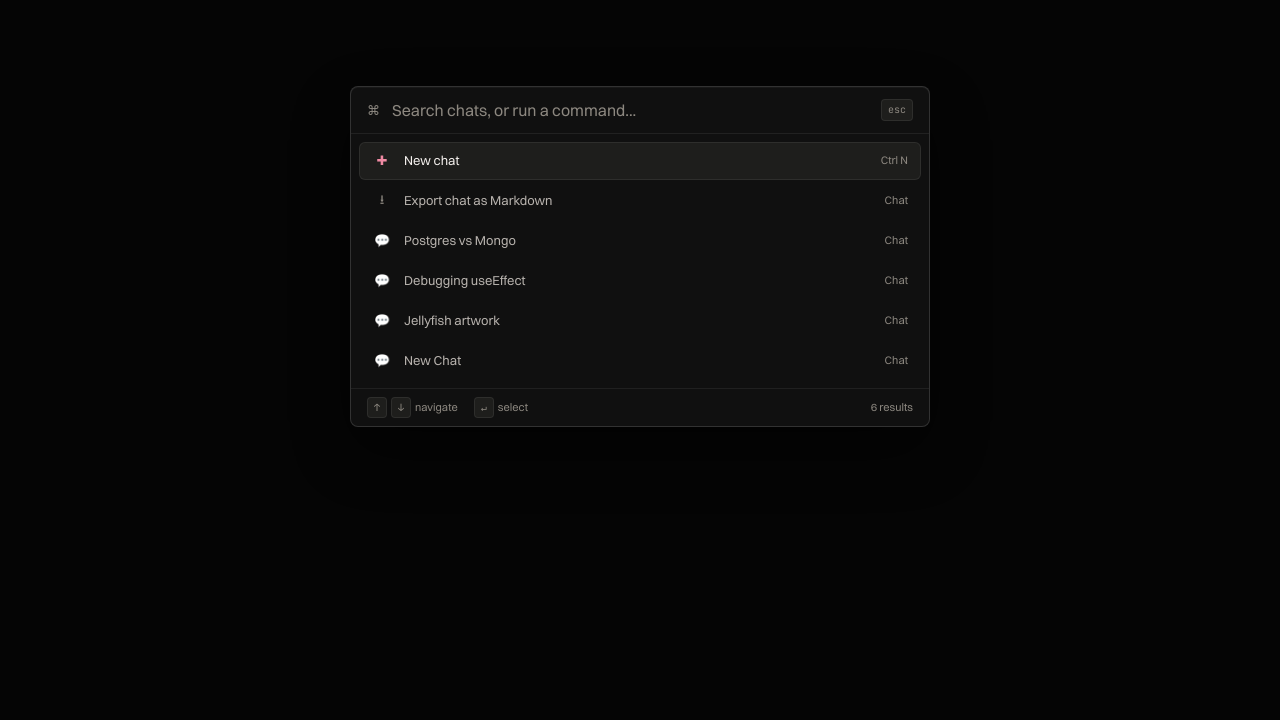
Scenario: CommandPalette › reports when nothing matches
The width and height of the screenshot is (1280, 720).
In the field: (630, 110) [392, 100, 869, 121], type "zzzzz"
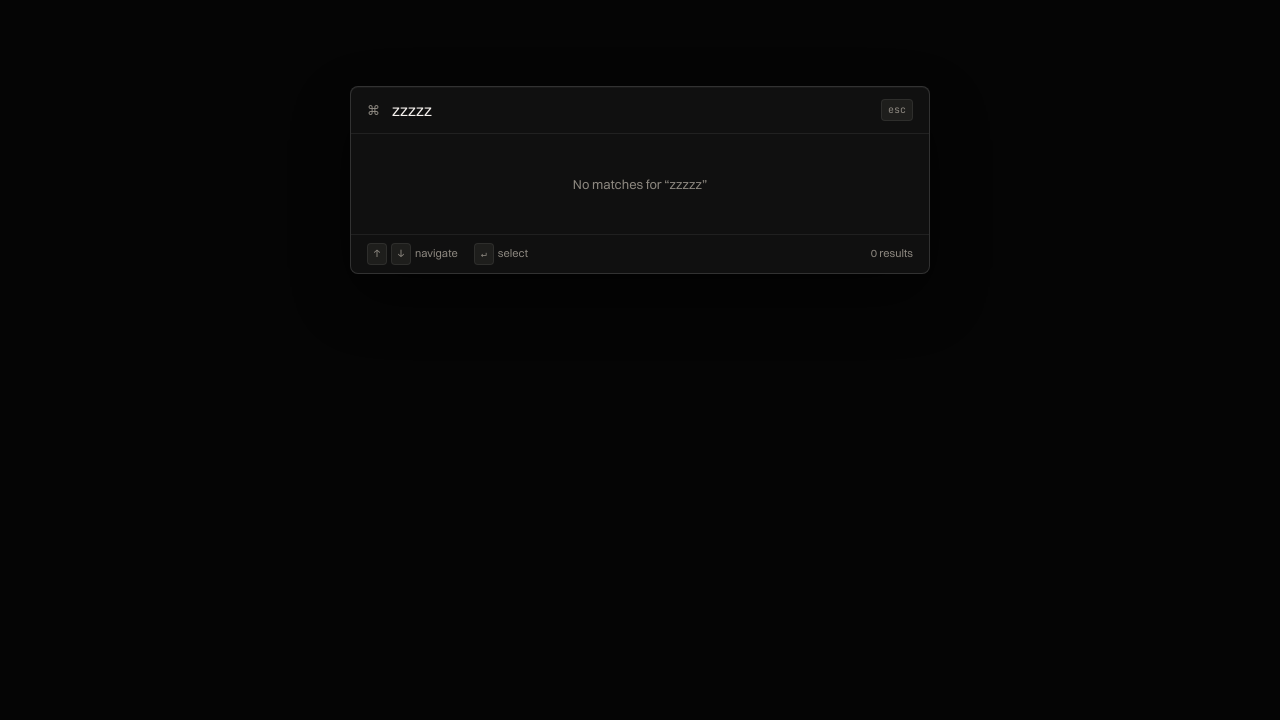
Expected: no options are shown
Expected: the text "No matches for “zzzzz”" is shown, [573, 176, 707, 192]
